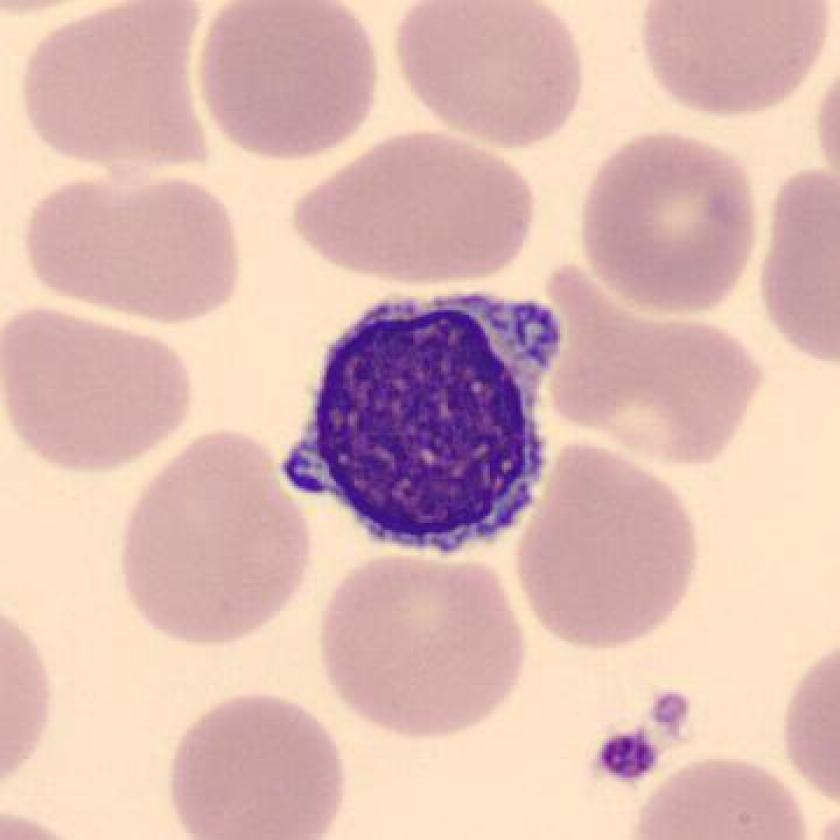lymphocyte: (262, 277, 573, 571)
